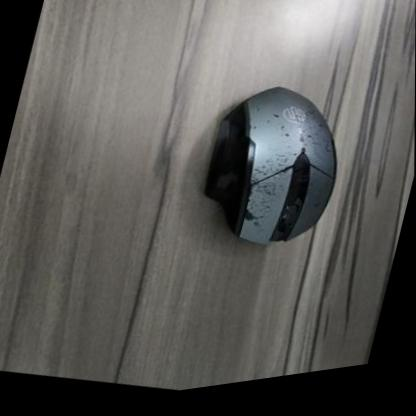mouserotation: (192, 69, 361, 274)
